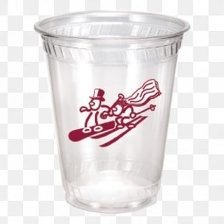glass: (28, 3, 194, 217)
